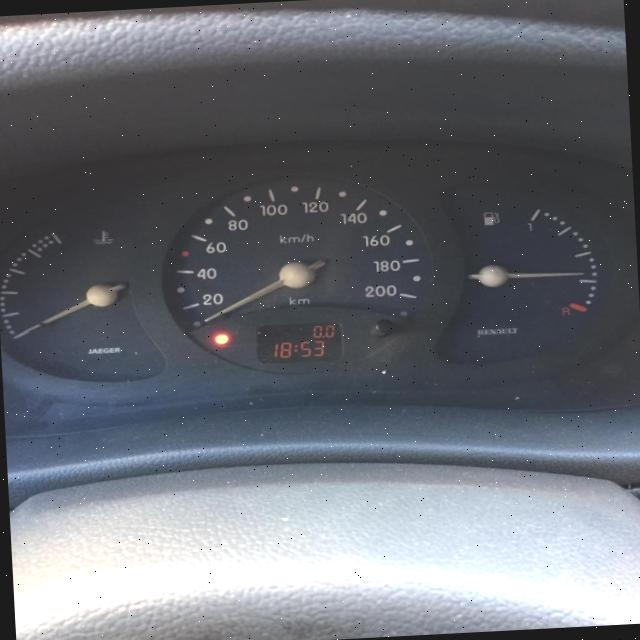odometer: (256, 320, 344, 364)
